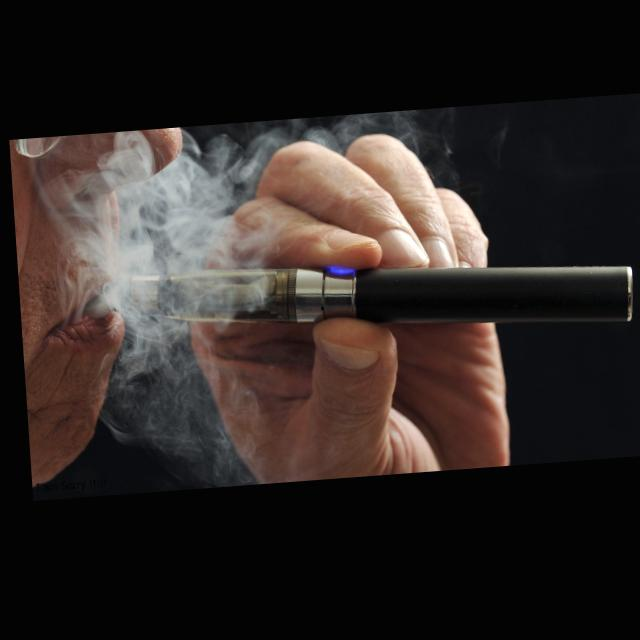vape: (97, 248, 631, 362)
